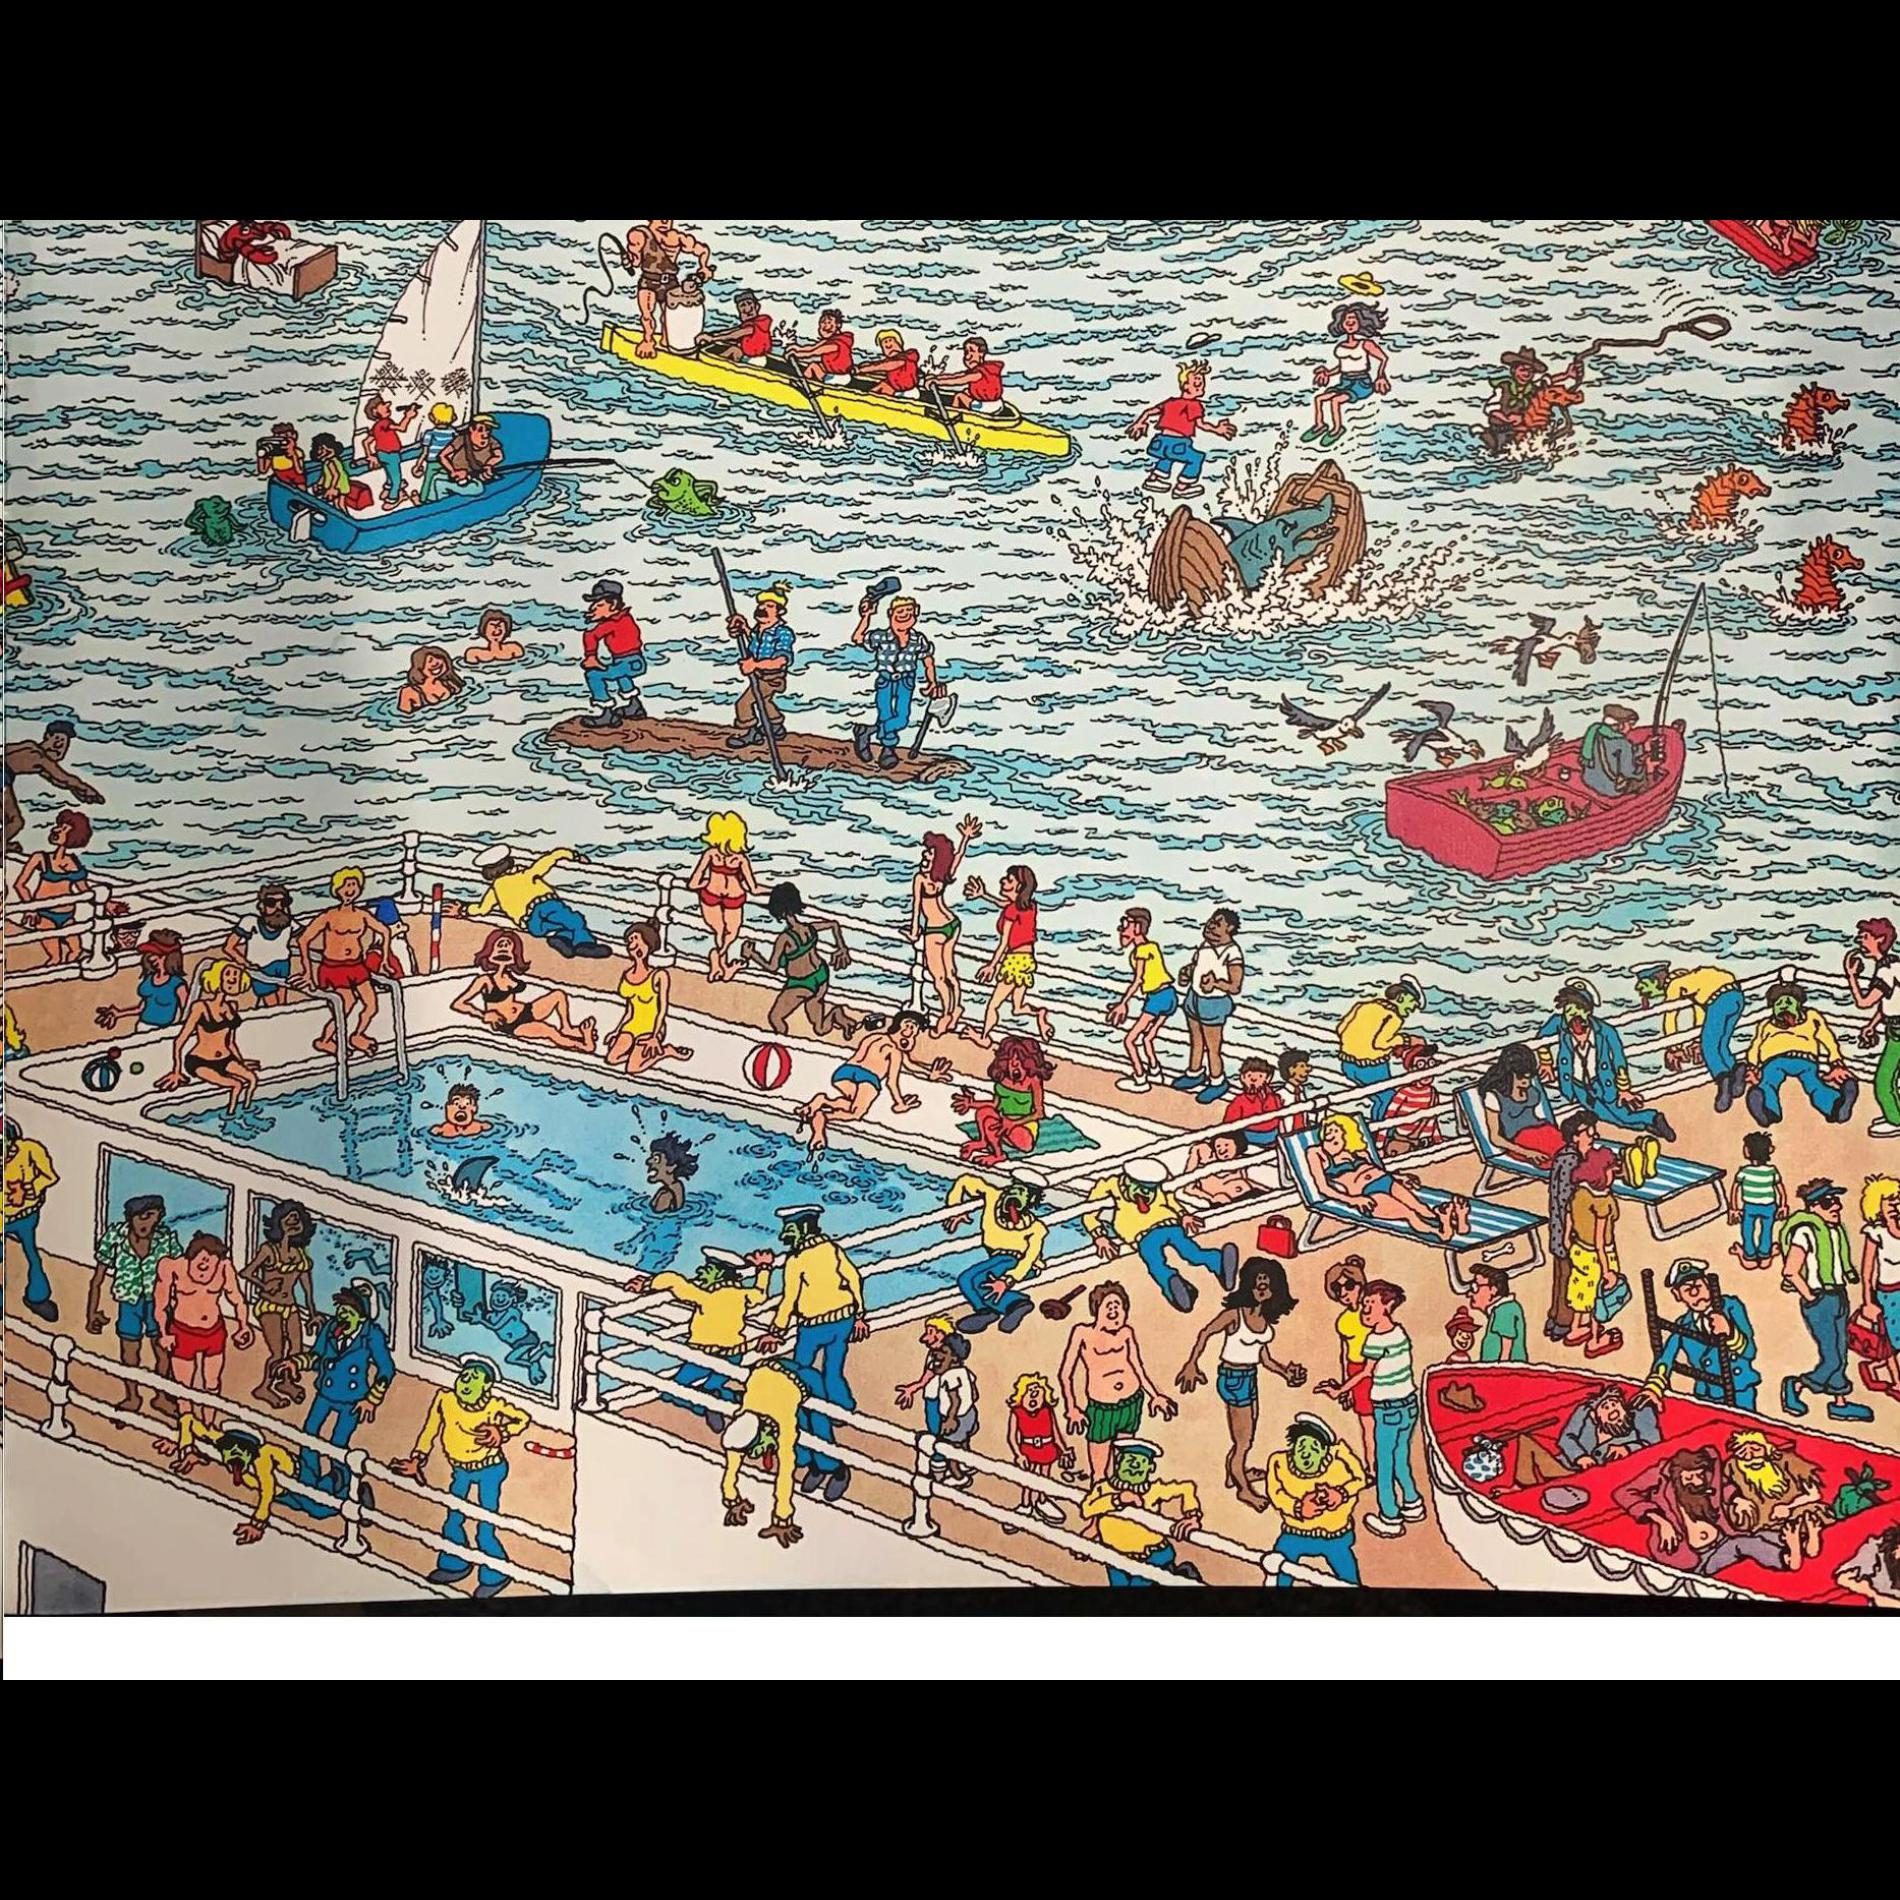Waldo: (1390, 1040, 1441, 1133)
Wilma: (106, 900, 143, 952)
Wizard: (365, 882, 445, 981)
